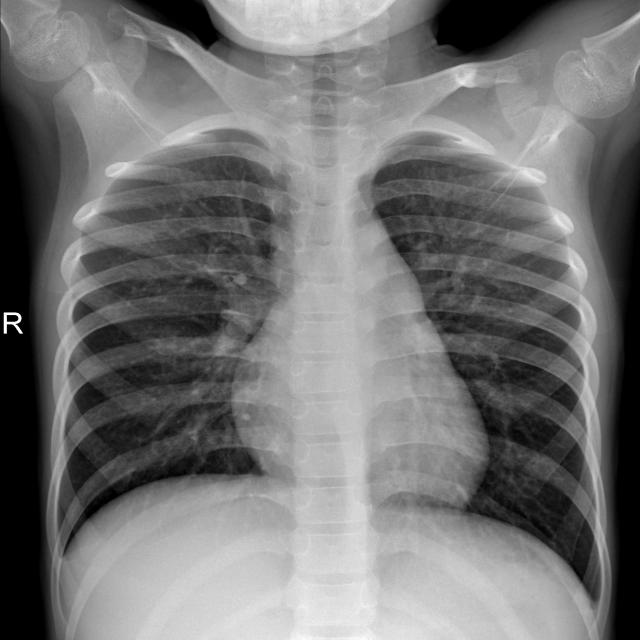normal_lung: (4, 1, 640, 640)
